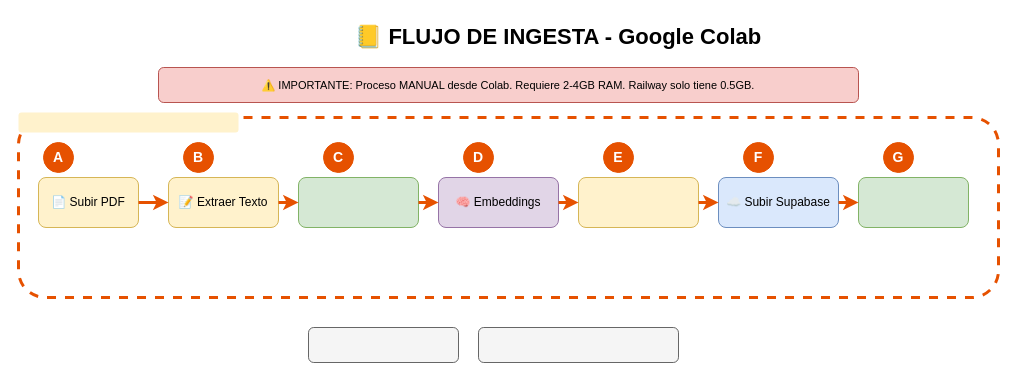
Some shapes in this 1017 by 380 pixel diagram are drawn without their labels. The shapes that lost their labels are listed below. From the top down, each one's centre as x and y in pixels, then its label:
At point 128,122: "📒 Google Colab - 12GB RAM gratis".
At point 358,202: "📊 Chunking Legal".
At point 638,202: "📋 Metadata".
At point 913,202: "✅ ~1200 chunks".
At point 383,344: "⏱️ Tiempo: 5-10 min".
At point 578,344: "📅 Frecuencia: 1-2 veces/año".
